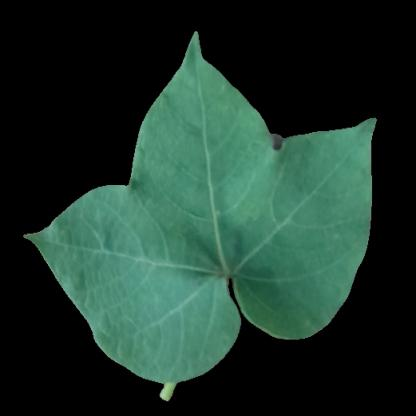healthy: (163, 103, 248, 266), (80, 223, 169, 306)
